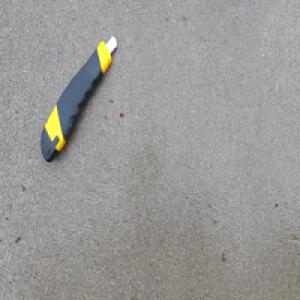Cutter: (39, 33, 118, 163)
